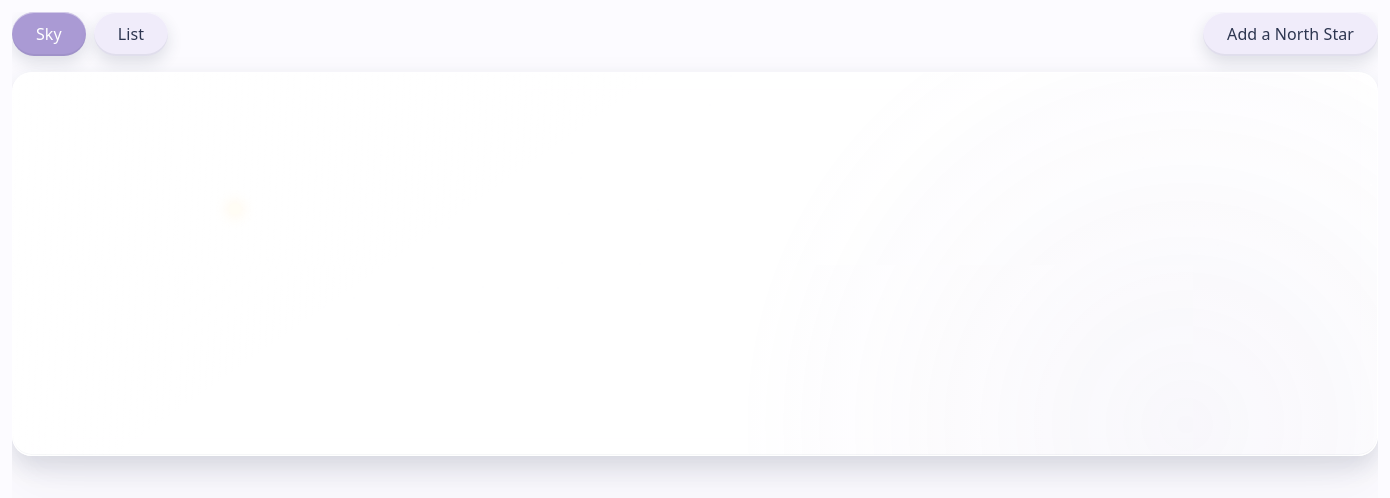
Test: ConstellationsView › offers a list-view fallback
The image size is (1390, 498).
Click the button "List". click: {"x": 131, "y": 34}
box: [94,12,168,56]
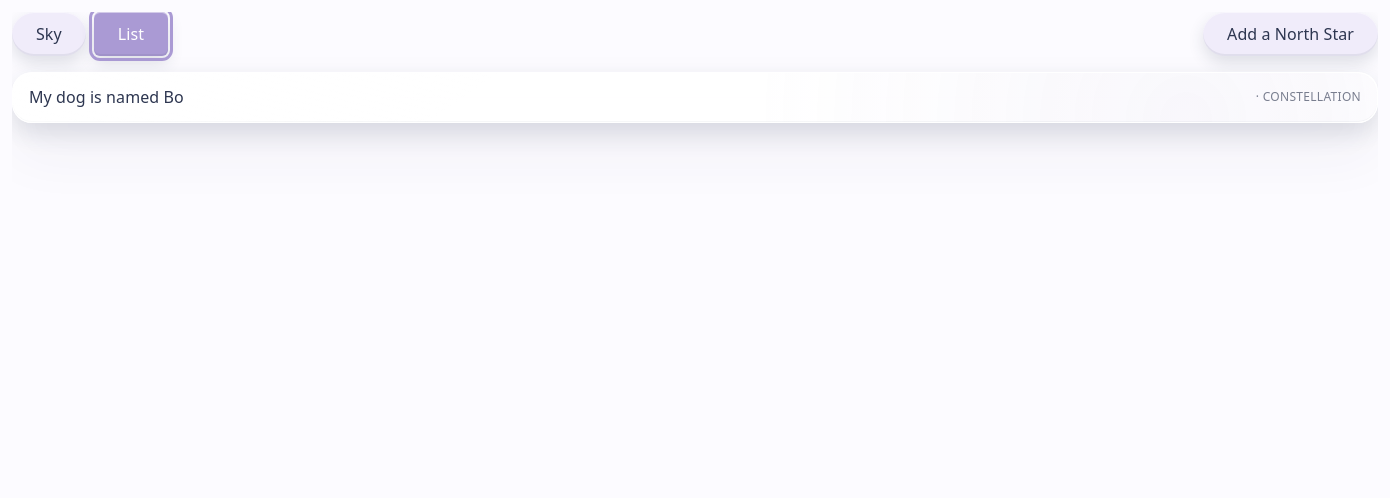
Result: the text "· Constellation" is shown at [1256,89,1361,105]
